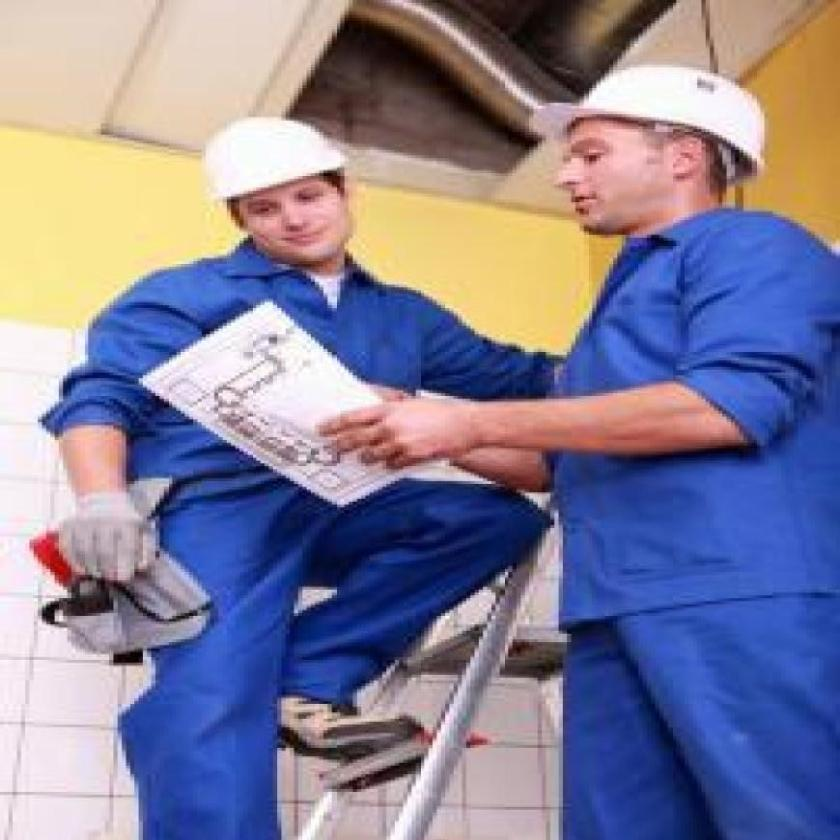Con_casco: (551, 63, 767, 238), (202, 115, 361, 275)
